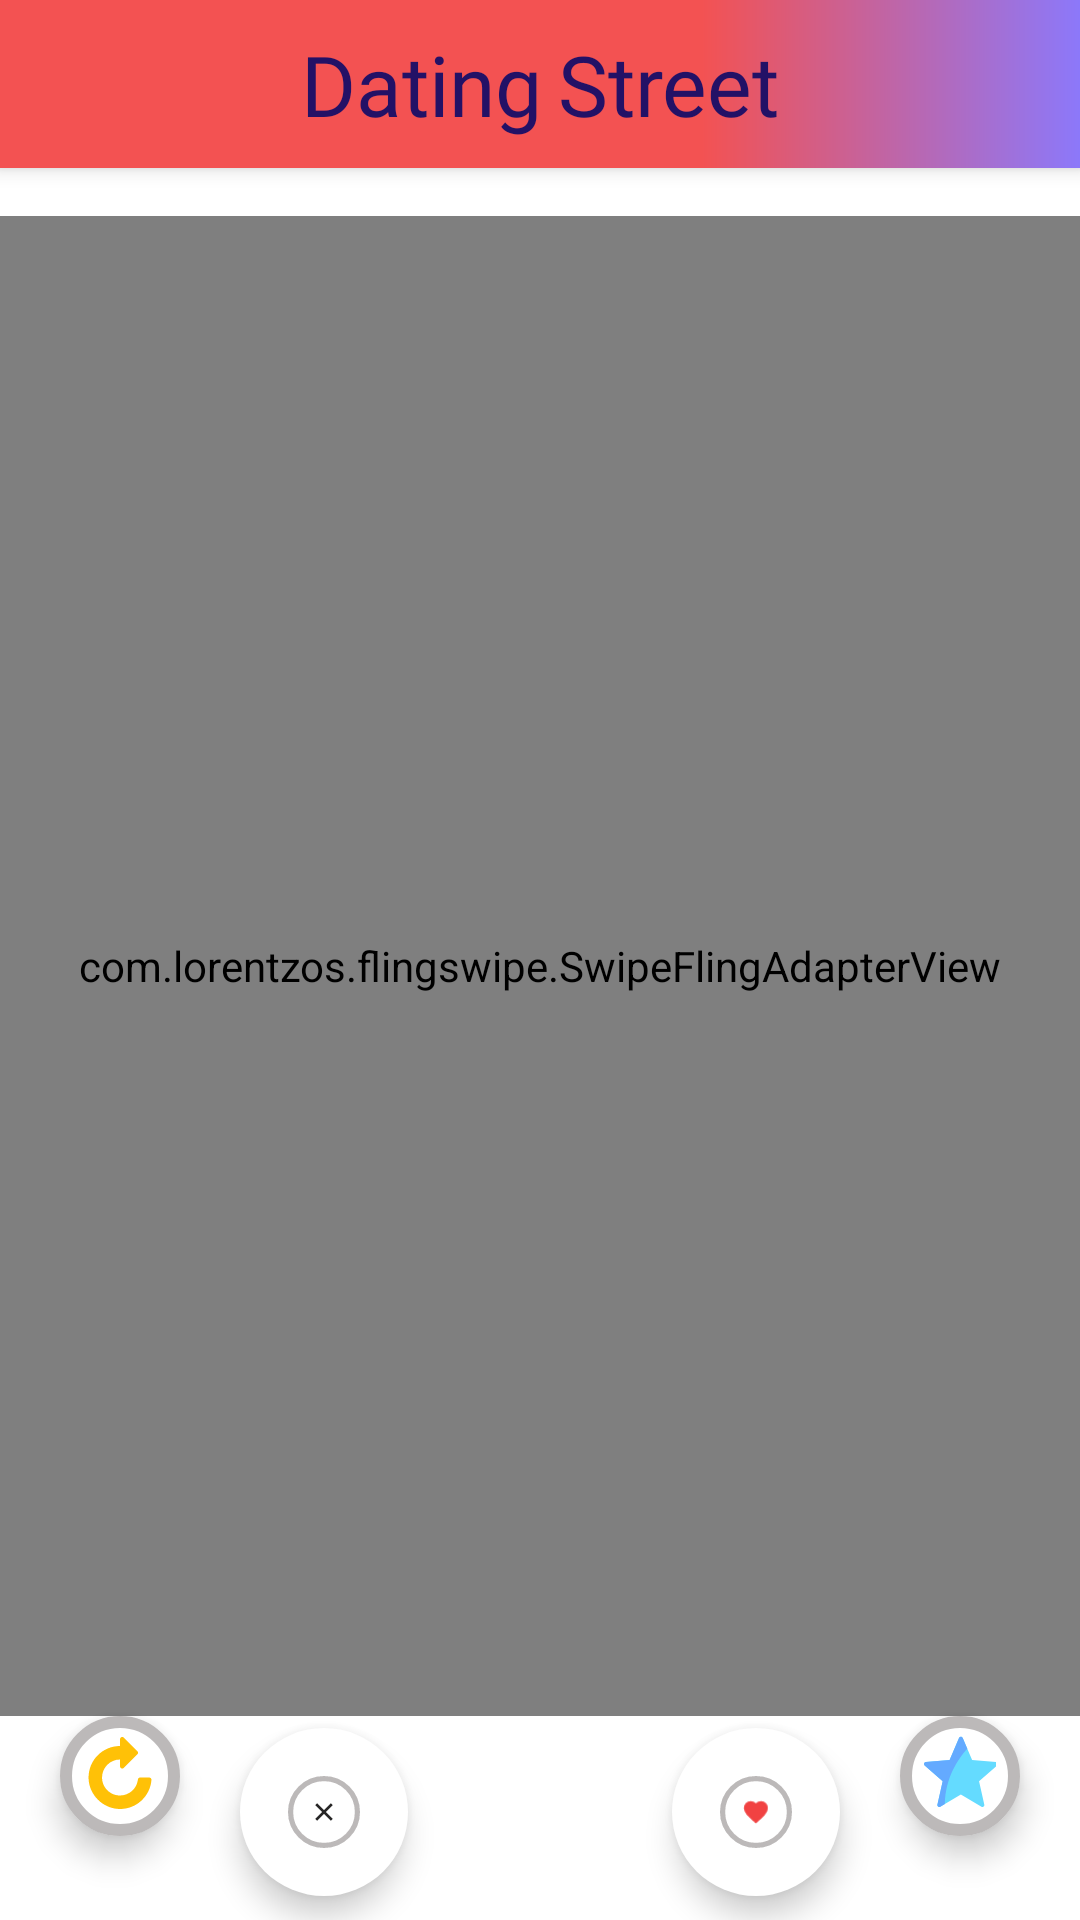

Icons on this 1080×1920 Android screen, each with the point to tap as point (x, y):
fab heart: point (733, 1812)
fab reject: point (322, 1836)
fab rewind: point (120, 1776)
fab star: point (960, 1776)
